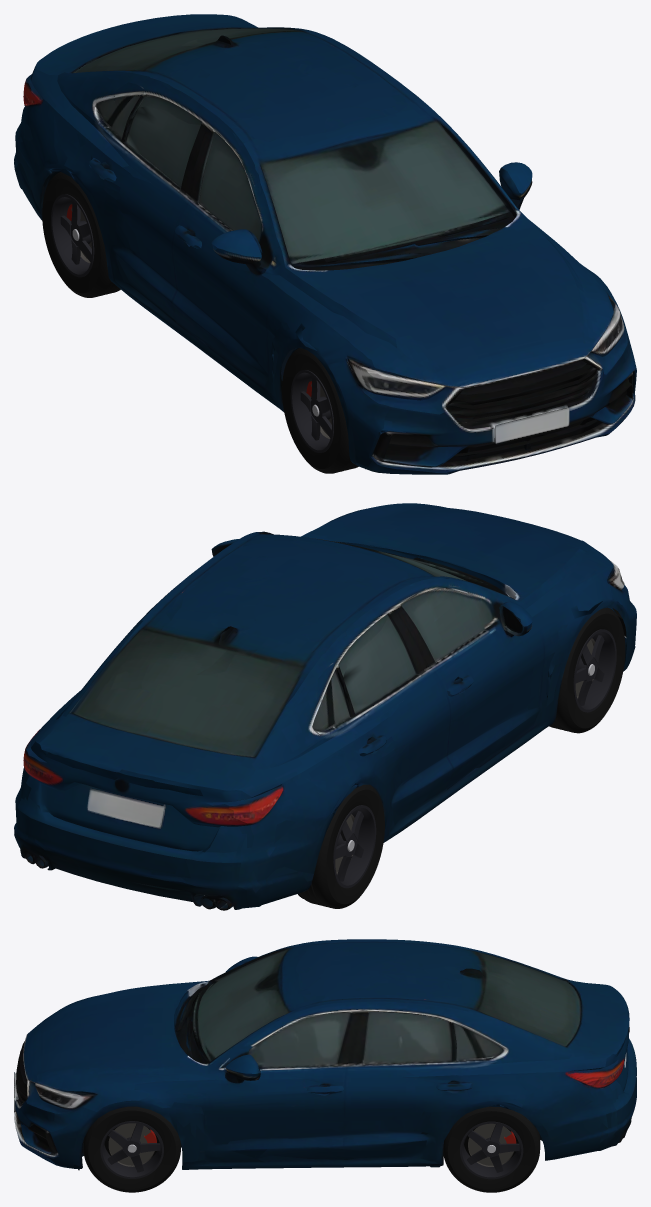
The model's file is limousine.glb.
3 views of the same model, one above another, from view 1: azimuth 30°, elevation 25°; view 2: azimuth 150°, elevation 25°; view 3: azimuth 270°, elevation 25° (orthographic). The views are drawn at different scales.
Visible parts, largest first — view 1: karosserie, rad_vr, rad_hr; view 2: karosserie, rad_hr, rad_vr; view 3: karosserie, rad_vl, rad_hl.
Boxes of the visible parts, bbox=[...] form: karosserie: bbox=[14, 14, 636, 474]; rad_vr: bbox=[282, 348, 358, 473]; rad_hr: bbox=[42, 172, 120, 297]; karosserie: bbox=[14, 503, 636, 910]; rad_hr: bbox=[298, 784, 384, 908]; rad_vr: bbox=[549, 607, 625, 733]; karosserie: bbox=[14, 939, 636, 1170]; rad_vl: bbox=[83, 1106, 180, 1192]; rad_hl: bbox=[443, 1106, 540, 1192].
Size of the model in its own units: 2.12 by 1.51 by 4.85.
3 materials, 1 textured.
